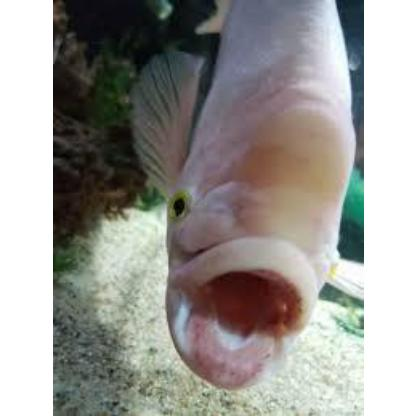gurame: (131, 0, 362, 382)
